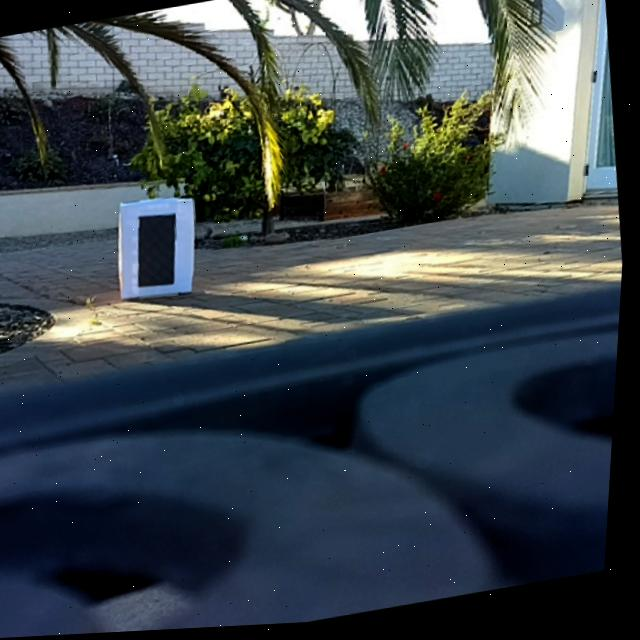led: (131, 208, 189, 294)
